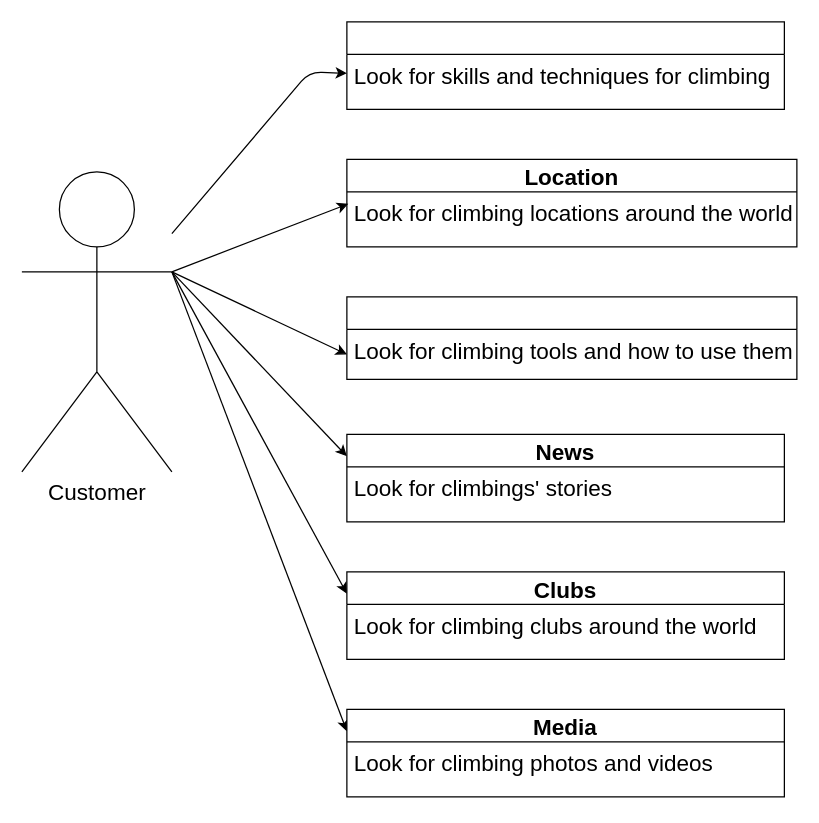
Some shapes in this 819 by 823 pixel diagram are drawn without their labels. The box of each missing label's shape, as (x1, y1, x2, y2) in pixels:
Gears: (346, 296, 797, 379)
Knowledge: (346, 21, 784, 109)
